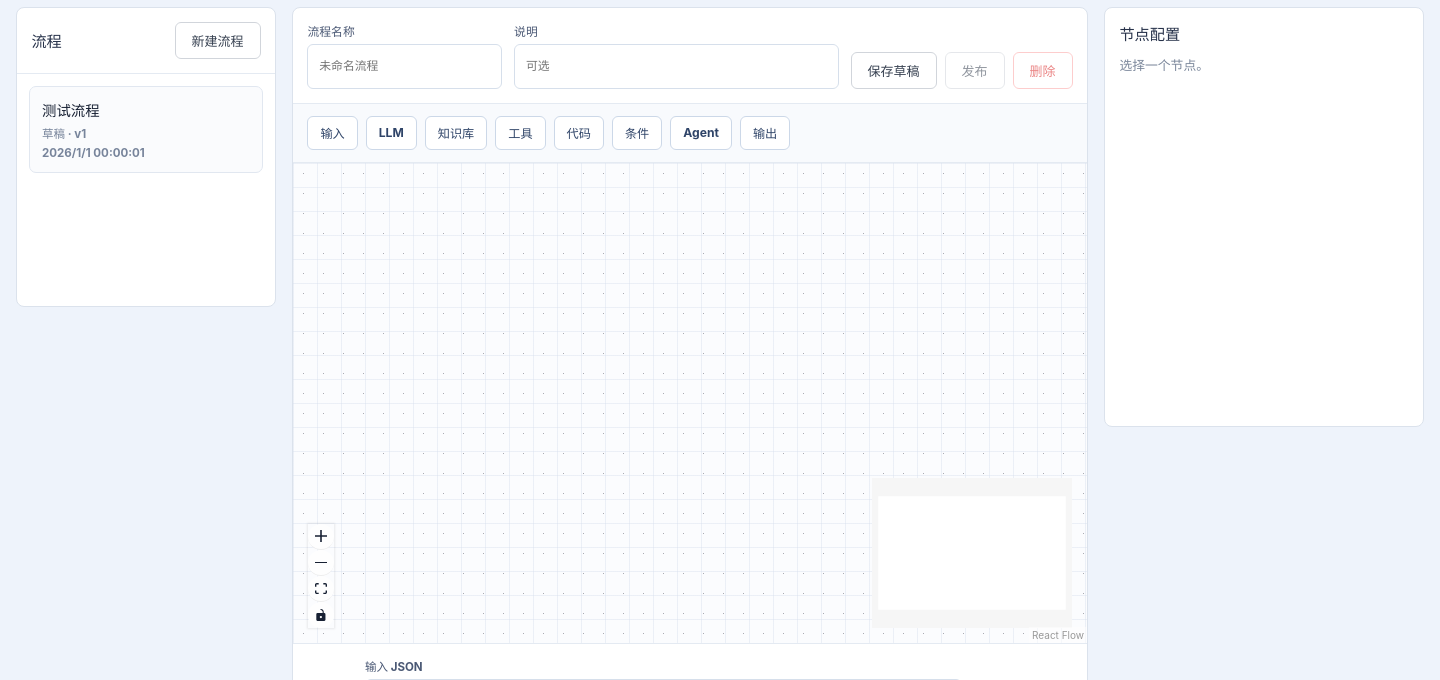
Scenario: WorkflowBuilder › runs a workflow and shows node result timeline
Click the button "测试流程 草稿 · v1 2026/1/1 00:00:01" at [146, 130], box [29, 86, 263, 173]
(page scrolled)
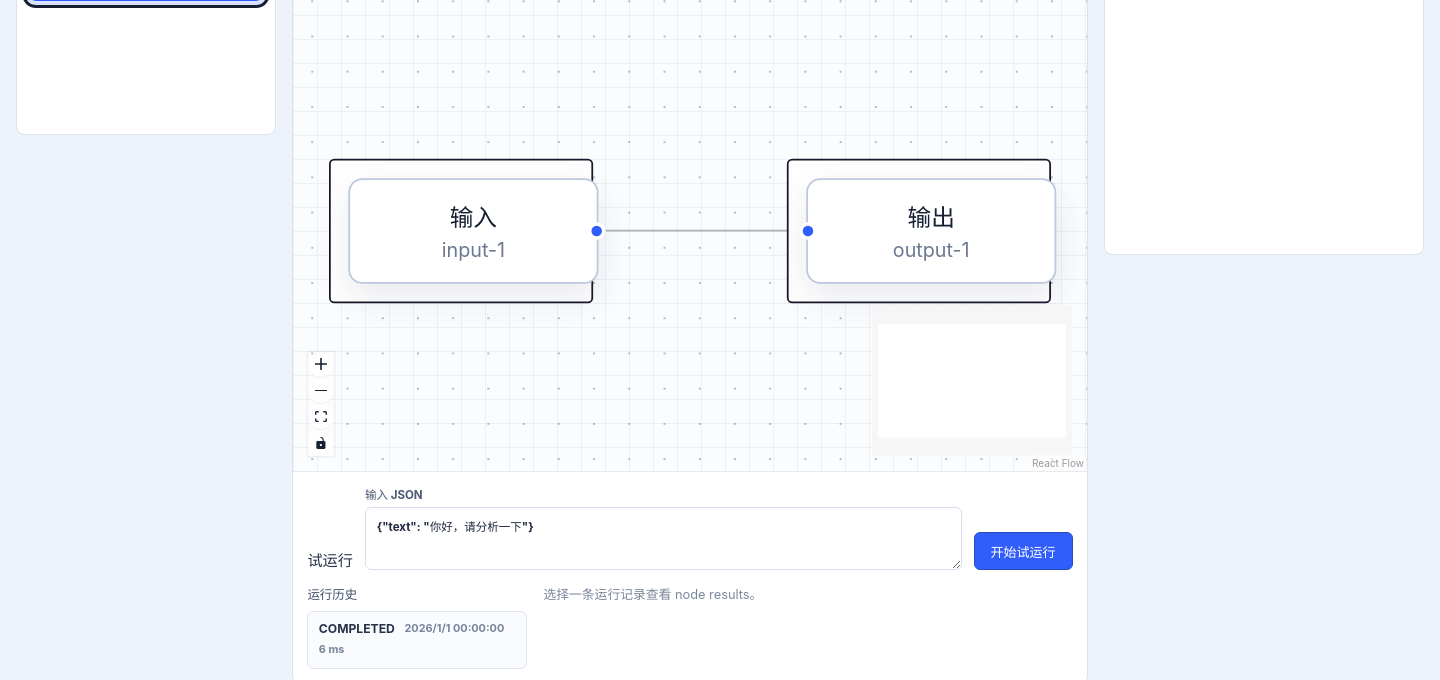
Click the button "开始试运行" at [1023, 551], box [974, 532, 1073, 570]
(page scrolled)
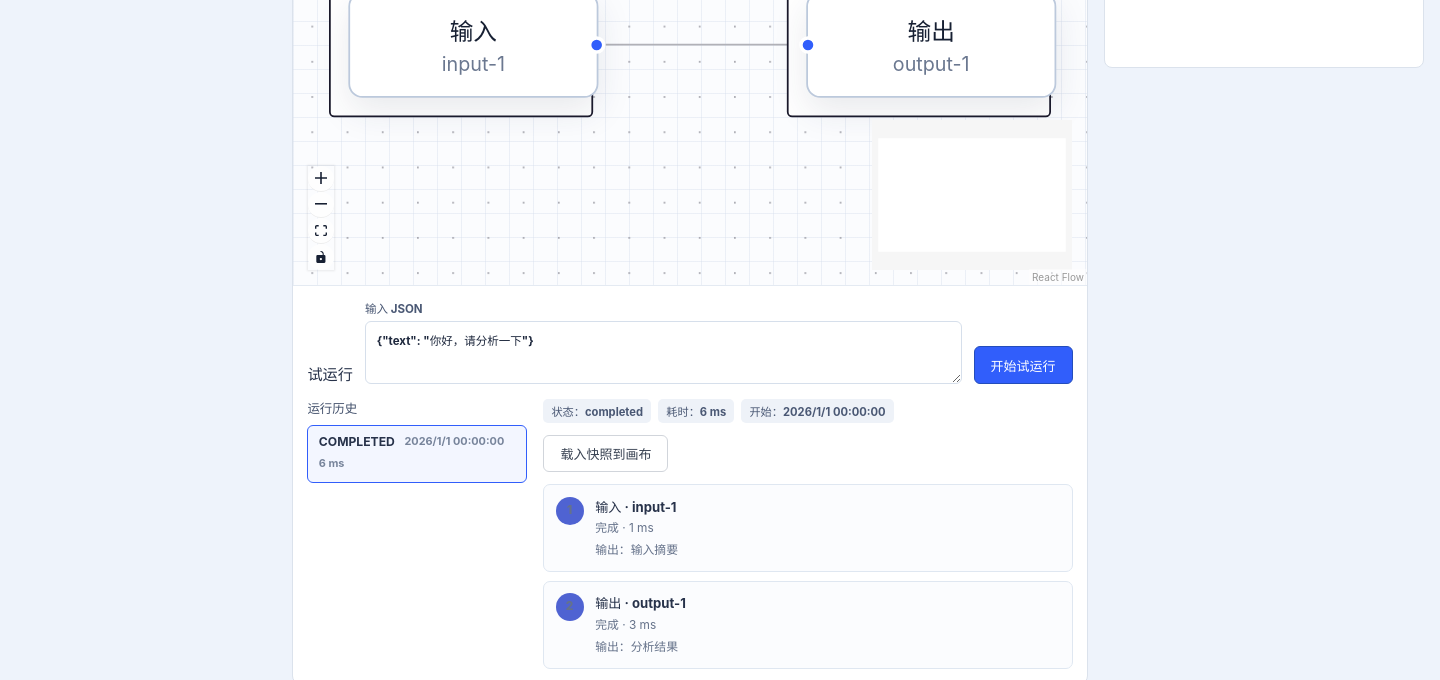
Result: the text "输出：分析结果" is shown at [595, 640, 678, 654]
Result: the text "输出：输入摘要" is shown at [595, 543, 678, 557]
